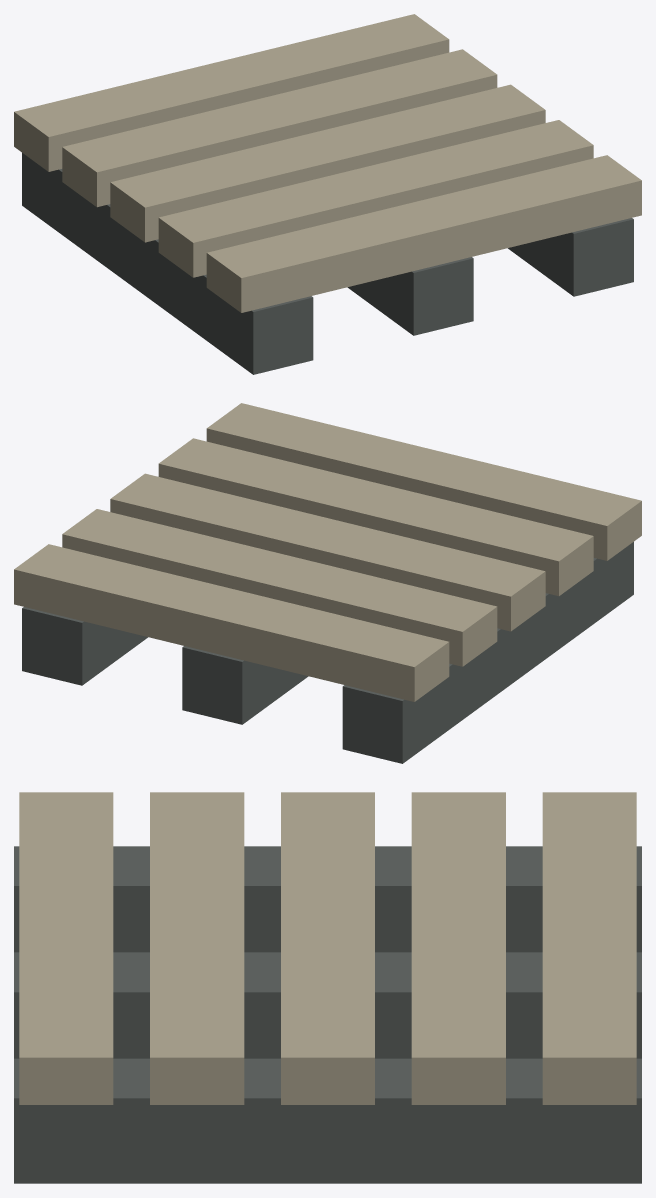
Rendered from pallet.glb.
3 views of the same model, one above another, from view 1: azimuth 30°, elevation 25°; view 2: azimuth 150°, elevation 25°; view 3: azimuth 270°, elevation 25° (orthographic). The views are drawn at different scales.
Parts seen in each view (by area): view 1: pallet-7, pallet-4, pallet-3, pallet-5, pallet-6, pallet-0, pallet-1, pallet-2; view 2: pallet-3, pallet-6, pallet-5, pallet-7, pallet-4, pallet-0, pallet-1, pallet-2; view 3: pallet-2, pallet-3, pallet-4, pallet-6, pallet-7, pallet-5, pallet-1, pallet-0.
Boxes of the visible parts, <box> form: pallet-7: <box>206,155,641,312</box>; pallet-4: <box>62,49,497,207</box>; pallet-3: <box>14,14,449,171</box>; pallet-5: <box>110,84,545,242</box>; pallet-6: <box>158,120,593,277</box>; pallet-0: <box>22,153,313,374</box>; pallet-1: <box>347,257,473,335</box>; pallet-2: <box>508,218,633,296</box>; pallet-3: <box>14,544,449,701</box>; pallet-6: <box>158,438,593,596</box>; pallet-5: <box>110,473,545,631</box>; pallet-7: <box>206,403,641,560</box>; pallet-4: <box>62,509,497,666</box>; pallet-0: <box>342,542,633,763</box>; pallet-1: <box>182,646,308,724</box>; pallet-2: <box>22,607,147,685</box>; pallet-2: <box>14,1058,641,1183</box>; pallet-3: <box>542,792,636,1104</box>; pallet-4: <box>411,792,505,1104</box>; pallet-6: <box>150,792,244,1104</box>; pallet-7: <box>19,792,113,1104</box>; pallet-5: <box>281,792,374,1104</box>; pallet-1: <box>14,952,641,1058</box>; pallet-0: <box>14,846,641,952</box>.
Size of the model in its own units: 1.2 by 0.28 by 1.2.
